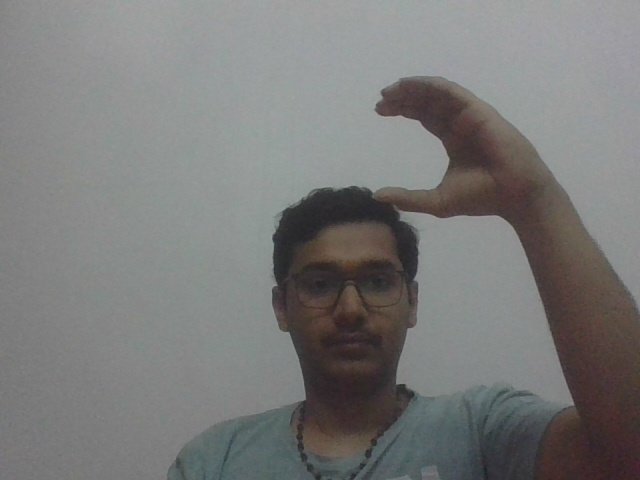C: (368, 73, 559, 225)
